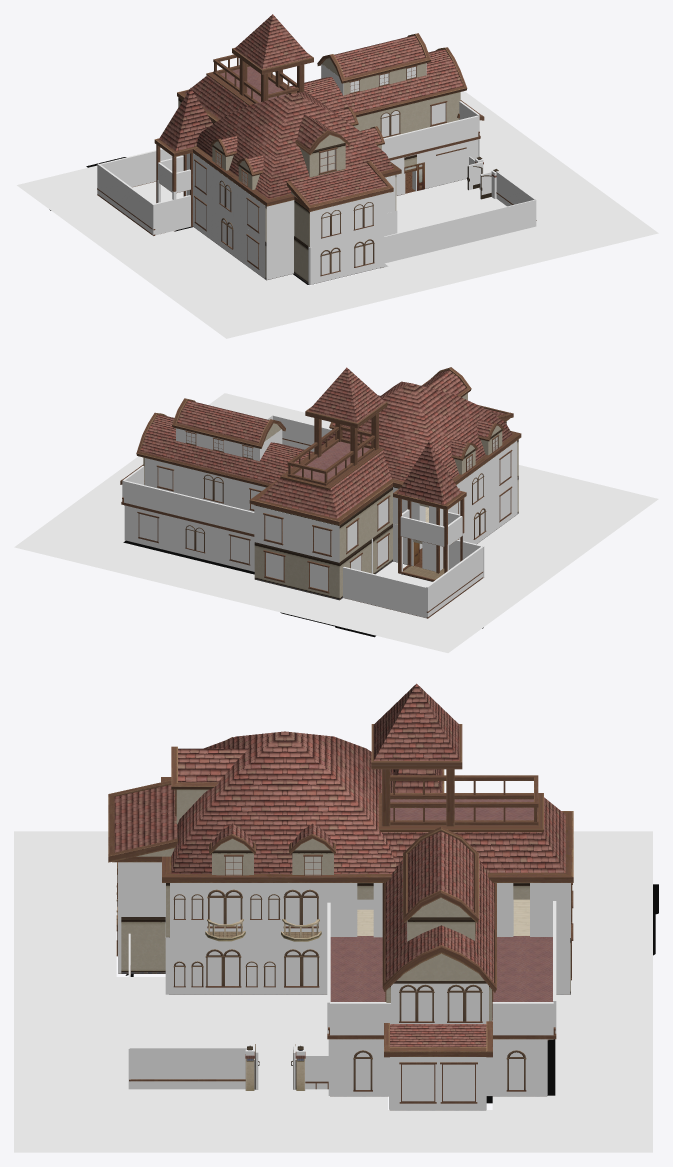
File: zhuzhai_yangfang01_01.FBX
The picture shows the model from 3 angles, top to bottom: view 1: azimuth 30°, elevation 25°; view 2: azimuth 150°, elevation 25°; view 3: azimuth 270°, elevation 25°; orthographic projection. The views are drawn at different scales.
Parts seen in each view (by area): view 1: floor_dz, wall_wd, box_1l, box_2l, wall_2l, wall_1l, Box008, Box001, Box002, wall_3l; view 2: floor_dz, wall_wd, box_1l, box_2l, wall_1l, wall_2l, Box006, Box008, box_3l, Box005, shadow; view 3: floor_dz, wall_wd, box_2l, box_1l, wall_2l, Box009, floor_2l, wall_1l, Box013, Box012, wall_3l, shadow.
Boxes of the visible parts, x1,y1,x2,y2 form: floor_dz: (17, 91, 658, 338); wall_wd: (154, 14, 467, 212); box_1l: (97, 139, 536, 284); box_2l: (158, 101, 479, 241); wall_2l: (156, 92, 484, 246); wall_1l: (97, 147, 536, 284); Box008: (187, 189, 265, 278); Box001: (310, 194, 383, 247); Box002: (266, 200, 294, 242); wall_3l: (343, 63, 426, 95); floor_dz: (14, 393, 658, 652); wall_wd: (136, 367, 521, 525); box_1l: (124, 415, 484, 617); box_2l: (122, 441, 517, 562); wall_1l: (125, 438, 518, 618); wall_2l: (120, 421, 518, 561); Box006: (124, 480, 254, 536); Box008: (435, 476, 517, 571); box_3l: (176, 428, 281, 461); Box005: (400, 516, 444, 546); shadow: (123, 540, 483, 637); floor_dz: (14, 831, 652, 1152); wall_wd: (108, 683, 573, 992); box_2l: (118, 862, 570, 1039); box_1l: (118, 917, 570, 1095); wall_2l: (117, 862, 572, 1057); Box009: (169, 937, 327, 994); floor_2l: (330, 899, 552, 1020); wall_1l: (116, 885, 573, 1110); Box013: (389, 1057, 486, 1109); Box012: (328, 1039, 388, 1095); wall_3l: (407, 917, 475, 940); shadow: (125, 884, 658, 1103).
Size of the model in its own units: 4748 by 1991 by 4024.
Materials: 6 (4 with a texture image).
